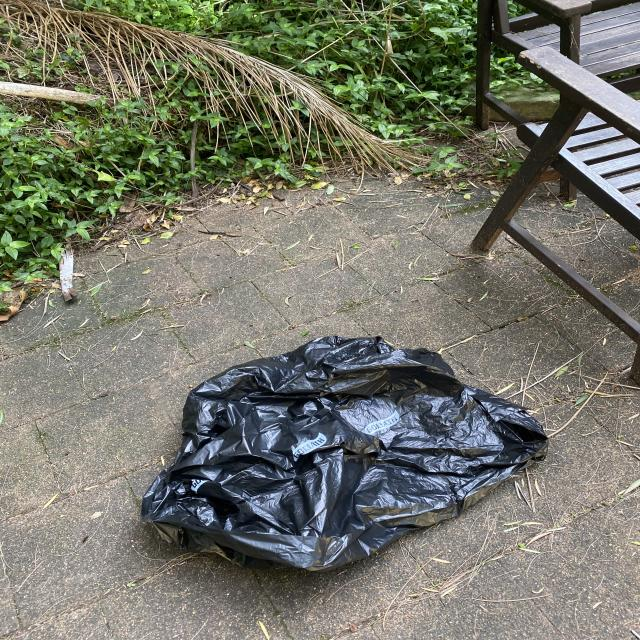bag: (144, 333, 548, 570)
